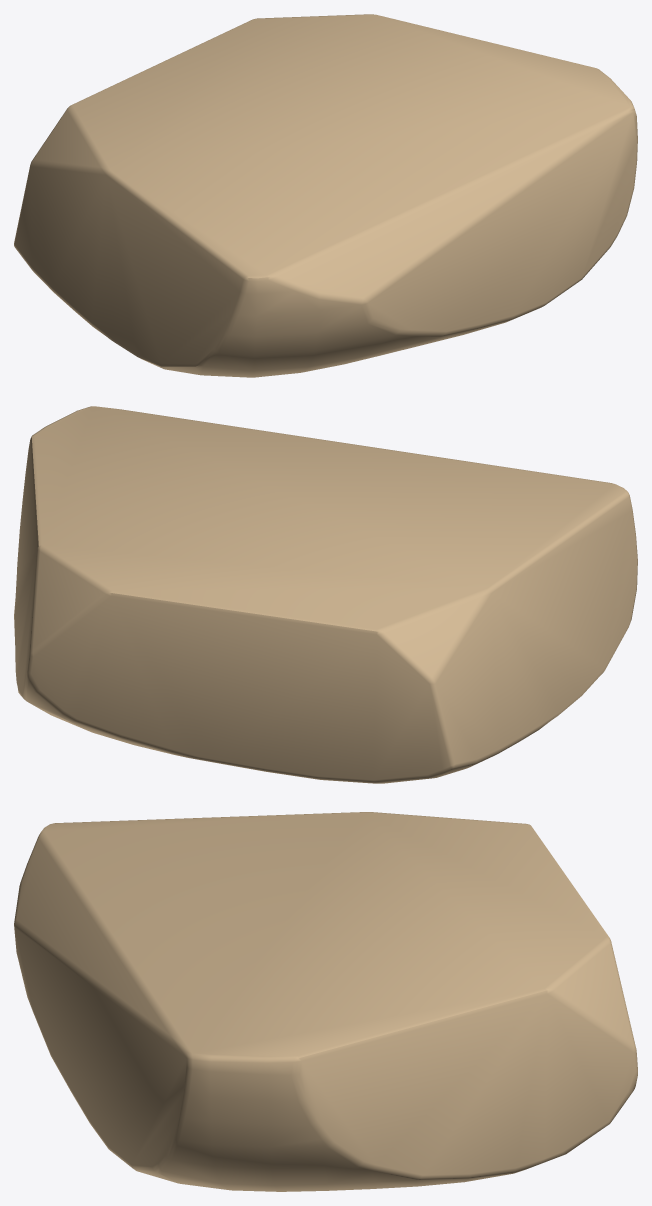
File: rock_slab_03.glb
3 views of the same model, one above another, from view 1: azimuth 30°, elevation 25°; view 2: azimuth 150°, elevation 25°; view 3: azimuth 270°, elevation 25° (orthographic). The views are drawn at different scales.
Parts seen in each view (by area): view 1: rock_slab_03; view 2: rock_slab_03; view 3: rock_slab_03.
Part boxes in pixels (<box>): rock_slab_03: <box>14,14,637,377</box>; rock_slab_03: <box>14,406,637,783</box>; rock_slab_03: <box>14,812,637,1191</box>.
Bounding box in the file's own units: 2.5 × 0.8372 × 2.35.
